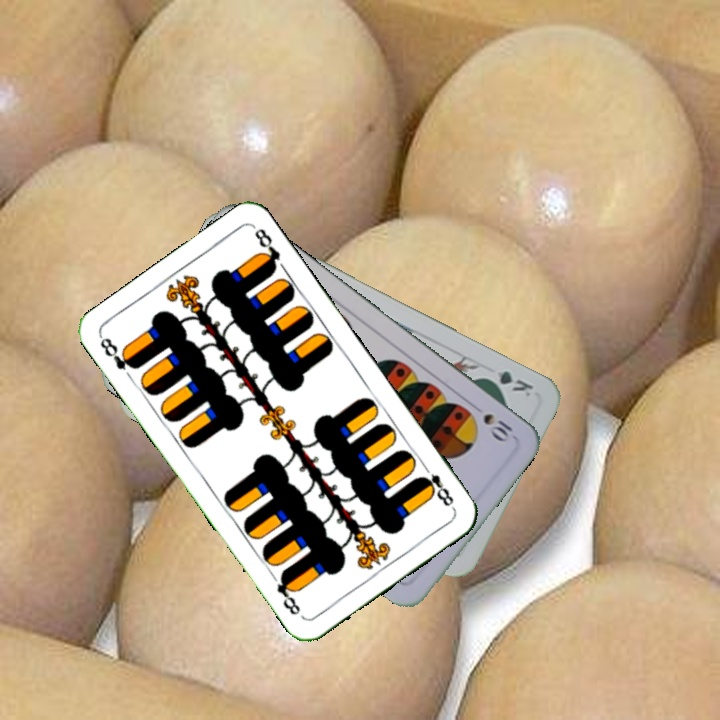E8: (415, 459, 457, 509), (95, 333, 141, 373)
GK: (479, 366, 536, 400)
S10: (479, 409, 517, 445)
